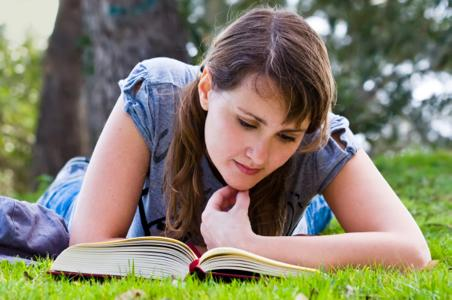person: (1, 10, 435, 274)
